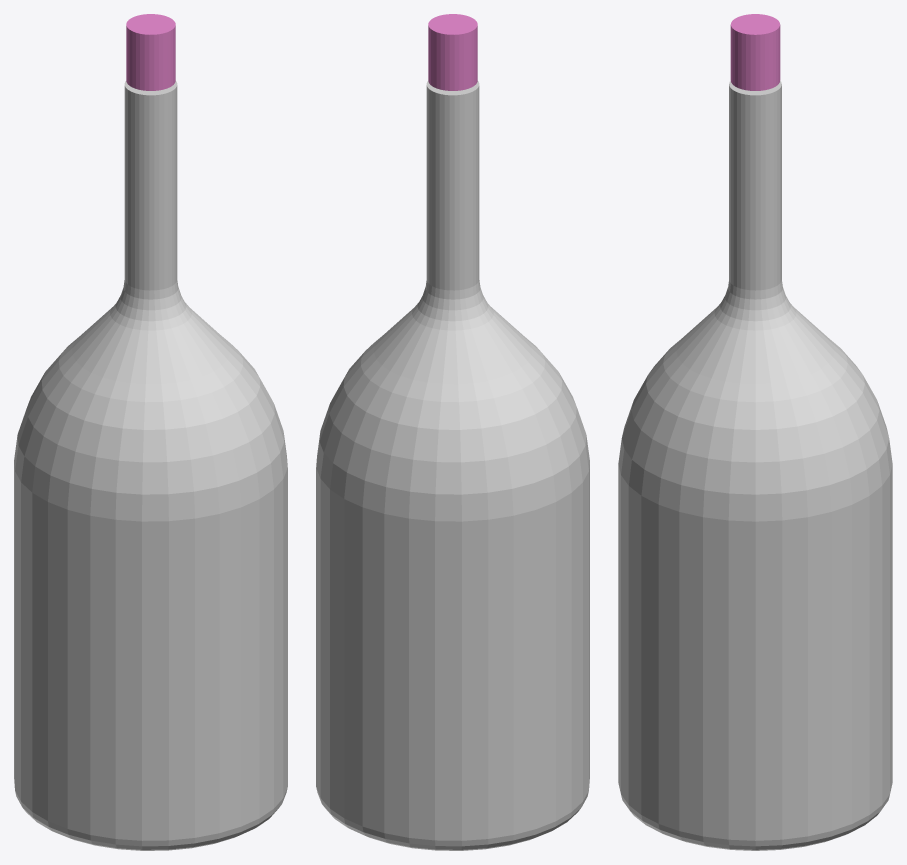
The model's file is wine bottle.fbx.
The picture shows the model from 3 angles, left to right: view 1: azimuth 30°, elevation 25°; view 2: azimuth 150°, elevation 25°; view 3: azimuth 270°, elevation 25°; orthographic projection.
Visible parts, largest first — view 1: Bottle, Circle; view 2: Bottle, Circle; view 3: Bottle, Circle.
Boxes of the visible parts, x1=… form: Bottle: x1=14, y1=81, x2=287, y2=850; Circle: x1=126, y1=14, x2=175, y2=90; Bottle: x1=316, y1=81, x2=589, y2=850; Circle: x1=428, y1=14, x2=477, y2=90; Bottle: x1=618, y1=81, x2=892, y2=850; Circle: x1=730, y1=14, x2=780, y2=90.
Bounding box in the file's own units: 14 × 43.62 × 14.
